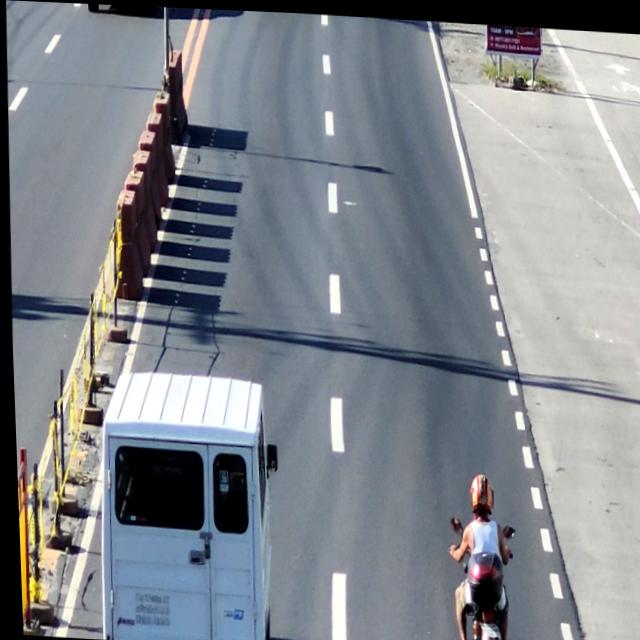Car: (94, 363, 271, 640)
License-Plate: (468, 612, 497, 639)
Motorcycle: (440, 473, 515, 640)
